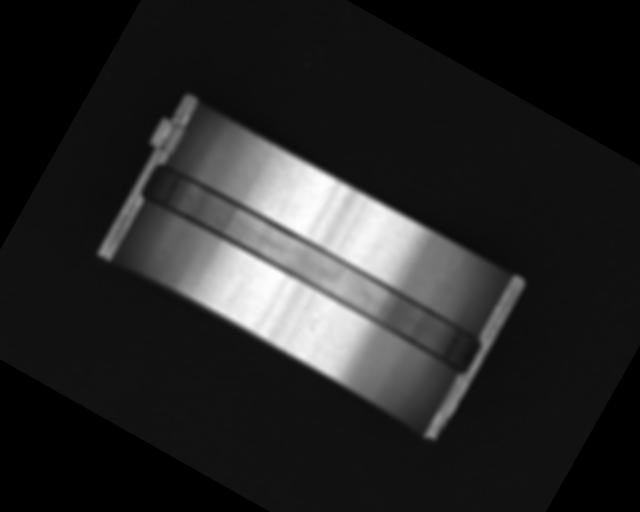gap: (136, 155, 486, 379)
